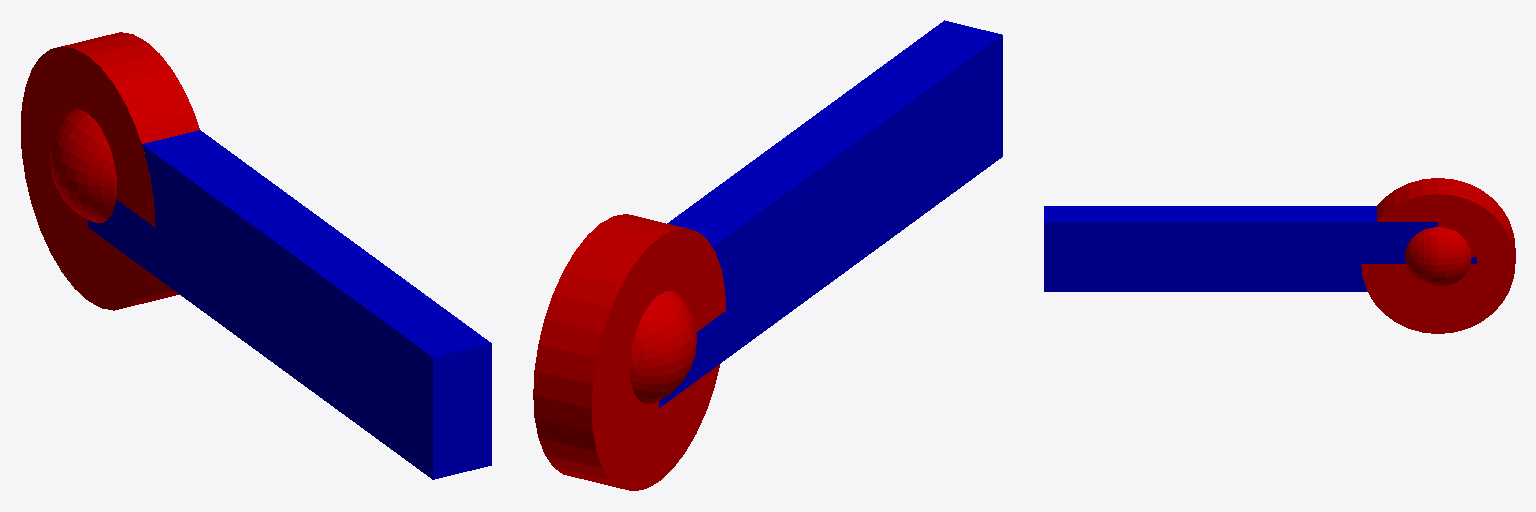
robot.urdf — TwoLinkStruct6380972955:
<?xml version="1.0"?>
<robot  name="TwoLinkStruct6380972955" >
 <material  name="blue" >
  <color  rgba="0 0 0.8 1.0" />
 </material>
 <material  name="red" >
  <color  rgba="0.8 0 0 1.0" />
 </material>
 <link  name="base_link" >
  <visual >
   <origin  rpy="0 1.5707 0"  xyz="0 0 0" />
   <material  name="red" />
   <geometry >
    <cylinder  length="0.05"  radius="0.1" />
   </geometry>
  </visual>
 </link>
 <joint  type="revolute"  name="joint1" >
  <parent  link="base_link" />
  <child  link="link1" />
  <origin  xyz="0 0 0"  rpy="0 0 0" />
  <axis  xyz="1 0 0" />
 </joint>
 <link  name="link1" >
  <inertial >
   <origin  rpy="0 0 0"  xyz="0 0 0.005" />
   <mass  value="0.030374171733856203" />
   <inertia  ixy="0.0"  iyy="1.2655904889106752e-05"  izz="6.581070542335511e-06"  ixz="0.0"  ixx="6.581070542335511e-06"  iyz="0.0" />
  </inertial>
  <visual >
   <origin  rpy="0 0 0"  xyz="0 0 0.005" />
   <material  name="blue" />
   <geometry >
    <box  size="0.05 0.1 0.01" />
   </geometry>
  </visual>
 </link>
 <joint  type="fixed"  name="joint-joint-1" >
  <parent  link="link1" />
  <child  link="joint-link-1" />
  <origin  xyz="0 0 0.01"  rpy="1.5707 0 0" />
  <axis  xyz="1 0 0" />
 </joint>
 <link  name="joint-link-1" >
  <inertial >
   <origin  rpy="0 0 0"  xyz="0 0 0" />
   <mass  value="5.0" />
   <inertia  ixy="0"  iyy="0"  izz="0"  ixz="0"  ixx="0"  iyz="0" />
  </inertial>
  <visual >
   <origin  rpy="0 0 0"  xyz="0 0 0" />
   <material  name="red" />
   <geometry >
    <sphere  radius="0.05" />
   </geometry>
  </visual>
 </link>
 <joint  type="revolute"  name="joint2" >
  <parent  link="link1" />
  <child  link="link2" />
  <origin  xyz="0 0 0.01"  rpy="1.5707 0 0" />
  <axis  xyz="1 0 0" />
 </joint>
 <link  name="link2" >
  <inertial >
   <origin  rpy="0 0 0"  xyz="0 0 0.25511510864860804" />
   <mass  value="1.5091153414517278" />
   <inertia  ixy="0.0"  iyy="1.2655904889106752e-05"  izz="0.0006652826350048367"  ixz="0.0"  ixx="0.0006652826350048367"  iyz="0.0" />
  </inertial>
  <visual >
   <origin  rpy="0 0 0"  xyz="0 0 0.25511510864860804" />
   <material  name="blue" />
   <geometry >
    <box  size="0.05 0.1 0.5102302172972161" />
   </geometry>
  </visual>
 </link>
 <joint  type="fixed"  name="eef_joint" >
  <parent  link="link2" />
  <child  link="eef" />
  <origin  xyz="0 0 0.5102302172972161"  rpy="0 0 0" />
 </joint>
 <link  name="eef" >
  <inertial >
   <origin  rpy="0 0 0"  xyz="0 0 0" />
   <mass  value="1" />
   <inertia  ixy="0"  iyy="0"  izz="0"  ixz="0"  ixx="0"  iyz="0" />
  </inertial>
 </link>
 <transmission  name="motor1" >
  <type  xmltext="SimpleTransmission" >
   SimpleTransmission
  </type>
  <actuator  name="motor1" >
   <mechanicalreduction  xmltext="1" >
    1
   </mechanicalreduction>
  </actuator>
  <joint  name="joint1" />
 </transmission>
 <transmission  name="motor2" >
  <type  xmltext="SimpleTransmission" >
   SimpleTransmission
  </type>
  <actuator  name="motor2" >
   <mechanicalreduction  xmltext="1" >
    1
   </mechanicalreduction>
  </actuator>
  <joint  name="joint2" />
 </transmission>
</robot>

<!-- {'carti': array([-0.1 ,  0.14,  0.85]), 'cartd': array([-0.1 ,  0.32,  1.29]), 'tau_mu': 0.0, 'b0': 0.2881048262967474, 'Km': 0.0, 'k_velocity': 100.0, 'tau_max_m': 5.0, 'omega_max_m': 3044.299738785964, 'gear_ratio': 24.981392567554202, 'Kp': 0.0, 'Kd': 100.0, 'm_m': 5.0, 'l1': 0.01, 'l2': 0.5102302172972161, 'k1': 30900.0, 'k2': 379000000.0, 'k3': 1000.0}-->

--- What the picture shows (computed from the rendered views, not written in the file) ---
The picture shows the robot from 3 angles, left to right: view 1: azimuth 30°, elevation 25°; view 2: azimuth 150°, elevation 25°; view 3: azimuth 270°, elevation 25°; orthographic projection.
Model TwoLinkStruct6380972955 with 5 links and 4 joints (2 revolute, 2 fixed), rooted at base_link, posed all joints at 0.
Visible links, largest first — view 1: link2, base_link, joint-link-1; view 2: link2, base_link, joint-link-1; view 3: link2, base_link, joint-link-1.
Boxes of the visible links, bbox=[...] form: link2: bbox=[88, 130, 491, 479]; base_link: bbox=[21, 32, 199, 310]; joint-link-1: bbox=[50, 109, 116, 222]; link2: bbox=[659, 20, 1002, 407]; base_link: bbox=[533, 214, 725, 490]; joint-link-1: bbox=[630, 291, 696, 403]; link2: bbox=[1044, 206, 1437, 291]; base_link: bbox=[1361, 178, 1515, 333]; joint-link-1: bbox=[1405, 227, 1471, 286].
Size in the robot's own frame: 0.1 by 0.6102 by 0.2 metres.
Geometry: primitives only (box / cylinder / sphere), no mesh files.
